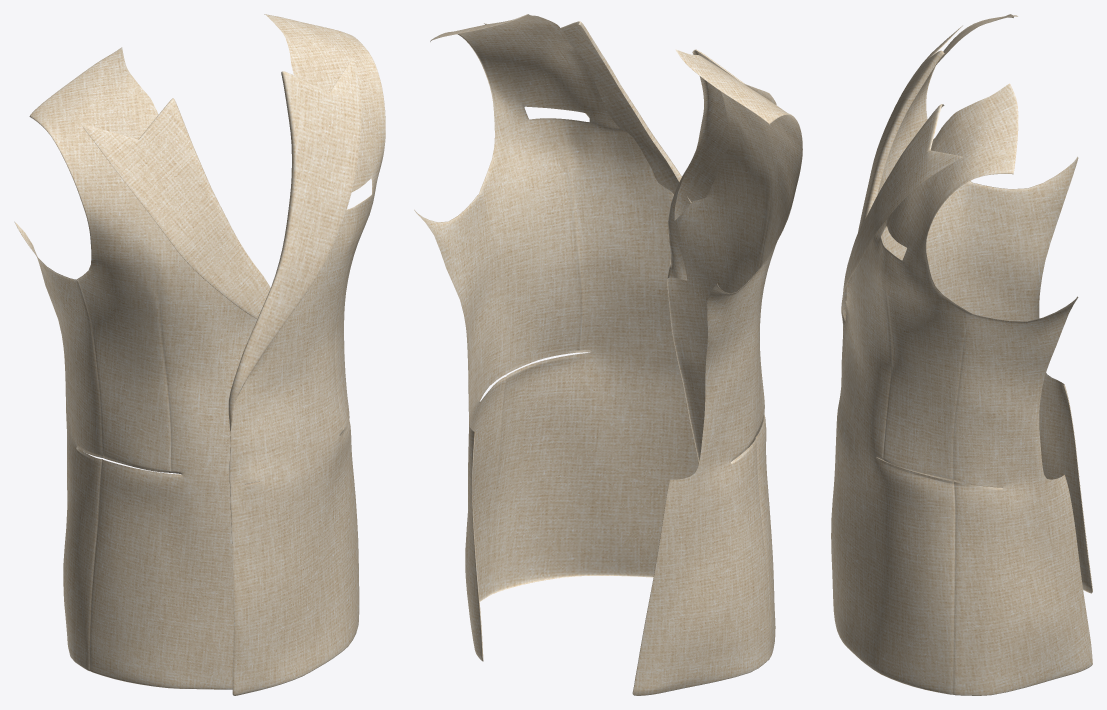
Rendered from peak_double_breasted_wide.glb.
The picture shows the model from 3 angles, left to right: view 1: azimuth 30°, elevation 25°; view 2: azimuth 150°, elevation 25°; view 3: azimuth 270°, elevation 25°; orthographic projection. The views are drawn at different scales.
Visible parts, largest first — view 1: peak_double_breasted_wide1.001; view 2: peak_double_breasted_wide1.001; view 3: peak_double_breasted_wide1.001.
Part boxes in pixels (bbox=[...]): peak_double_breasted_wide1.001: bbox=[14, 14, 385, 695]; peak_double_breasted_wide1.001: bbox=[414, 14, 802, 695]; peak_double_breasted_wide1.001: bbox=[831, 14, 1092, 695].
Bounding box in the file's own units: 0.0585 × 0.1017 × 0.0414.
2 materials, 1 textured.
